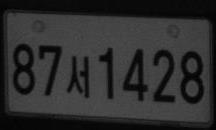1: (94, 47, 119, 98)
2: (151, 48, 176, 103)
4: (122, 47, 148, 102)
7: (37, 44, 62, 97)
8: (179, 49, 205, 104), (11, 42, 36, 95)
서: (66, 55, 90, 97)
